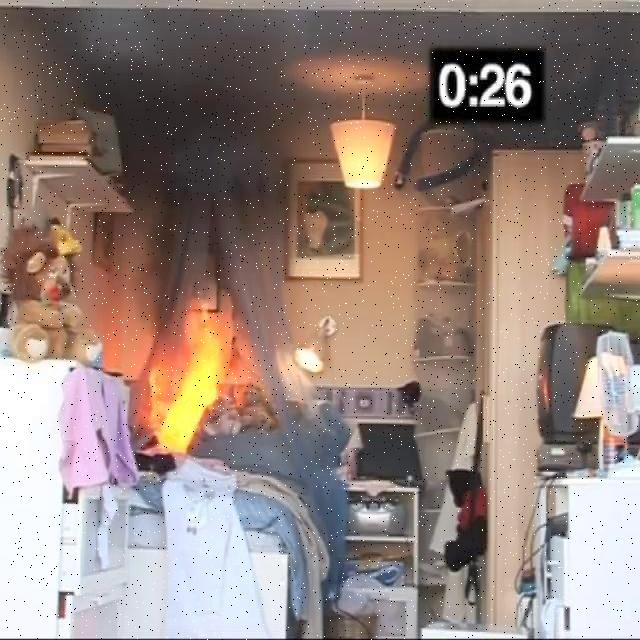fire: (152, 307, 236, 461)
light: (317, 106, 398, 208)
smoke: (84, 17, 302, 195)
